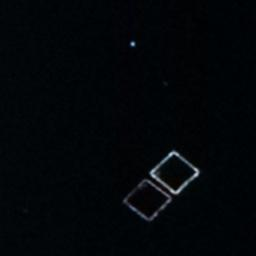square_solid: (149, 147, 205, 197), (119, 173, 174, 221)
